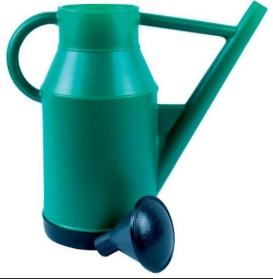ARROSOIR: (5, 0, 273, 279)
